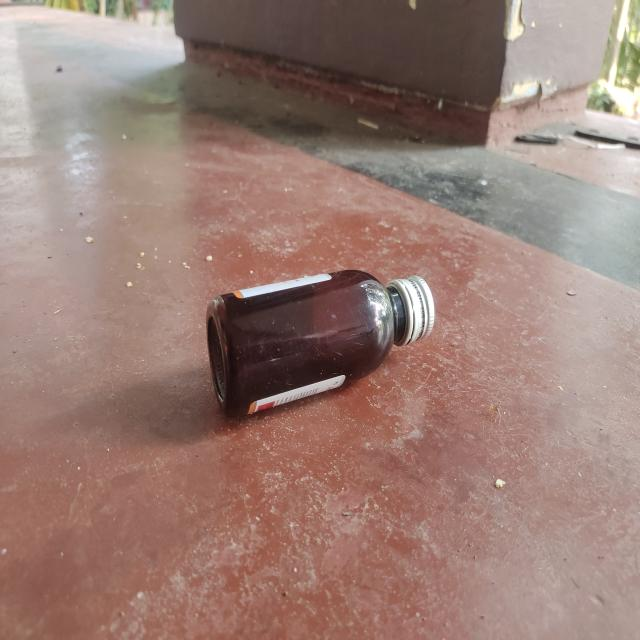plastic: (204, 264, 438, 418)
